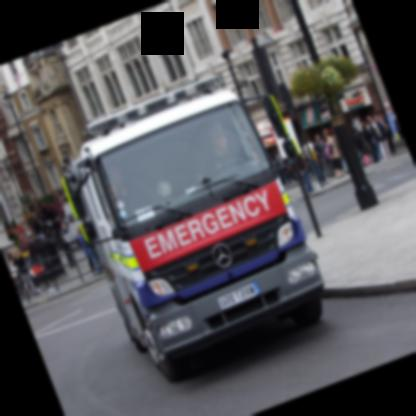handbag: (32, 263, 44, 274), (327, 142, 333, 156), (286, 158, 292, 172), (30, 267, 36, 276), (13, 275, 18, 283)
